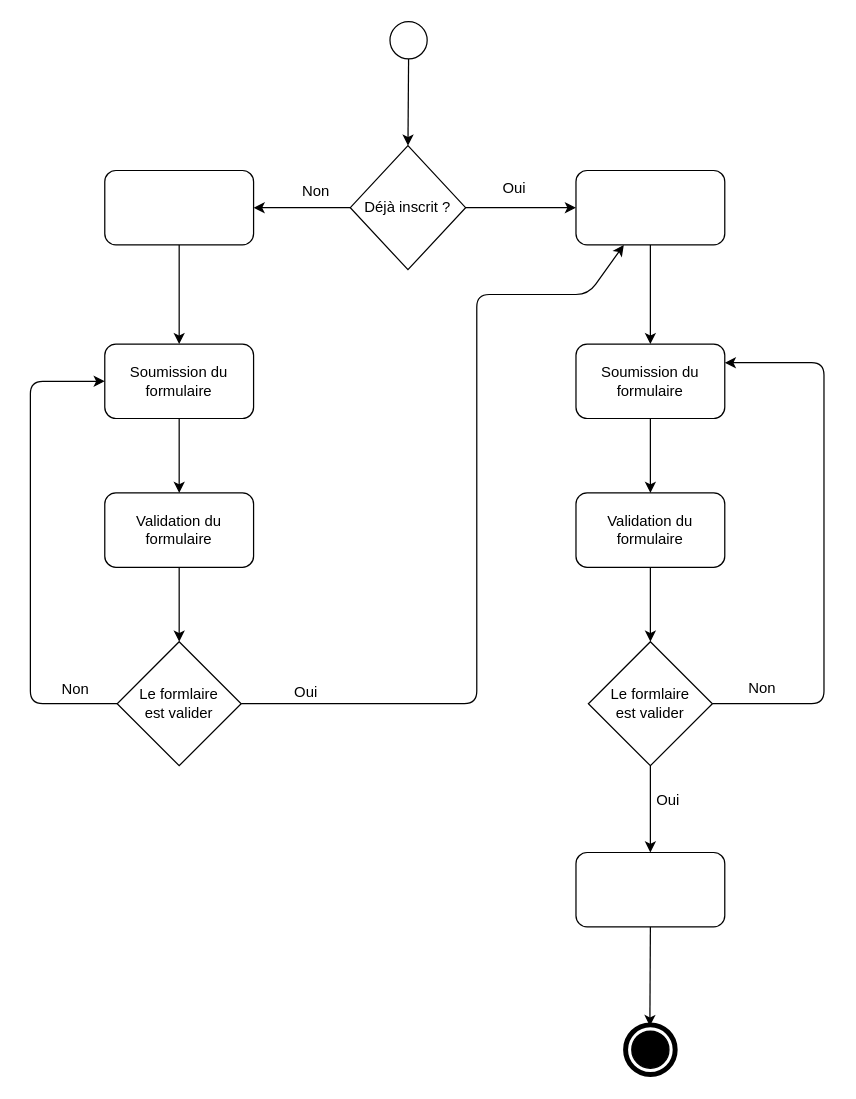
Some shapes in this 856 by 1099 pixel diagram are drawn without their labels. The shapes that lost their labels are listed below. From the top down, each one's centre as x and y in pixels, then its label:
At (179,207): "Affichage de la page d'insription".
At (650,207): "Affichage de la page de connexion".
At (650,889): "Affichage de la page d'acceuil".
